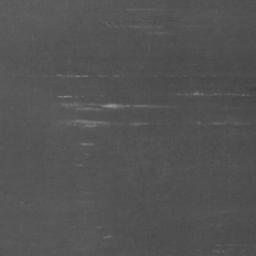Waist folding: (43, 72, 256, 80), (63, 102, 169, 111), (104, 22, 165, 33), (176, 92, 256, 98), (195, 121, 256, 127), (69, 120, 110, 128), (126, 8, 166, 13), (129, 122, 149, 127), (80, 142, 94, 147), (96, 226, 105, 231)
